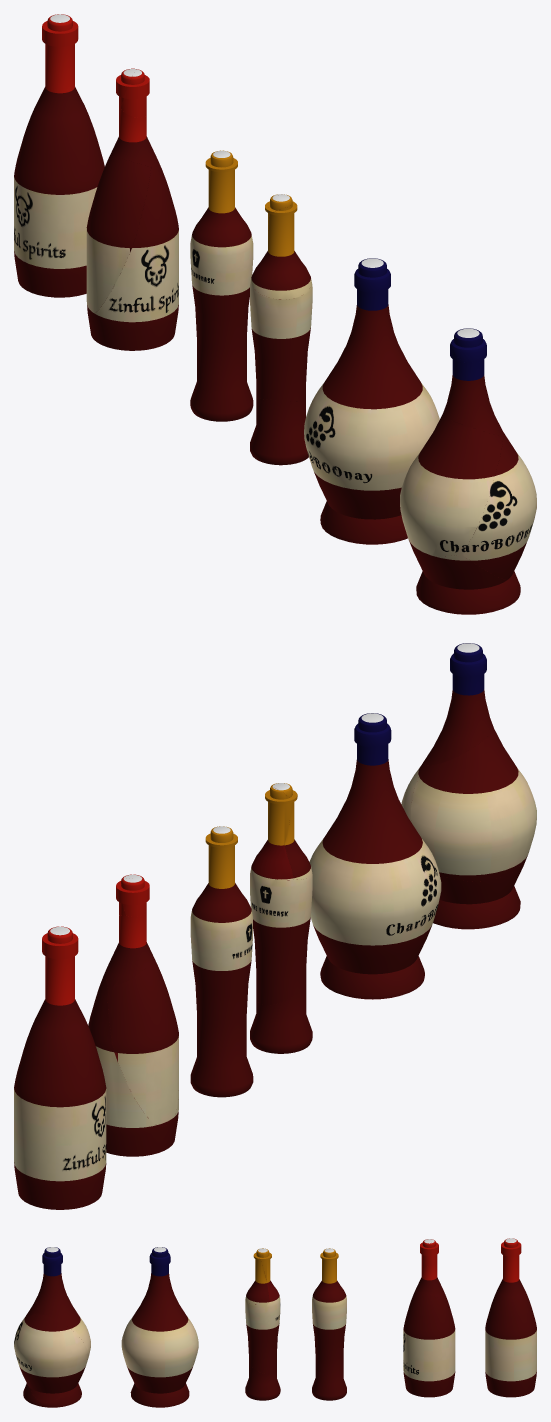
File: Wine_Bottles.fbx
3 renders of one model, top to bottom at view 1: azimuth 30°, elevation 25°; view 2: azimuth 150°, elevation 25°; view 3: azimuth 270°, elevation 25°, orthographic. The views are drawn at different scales.
Parts seen in each view (by area): view 1: Chardboonay_Bottle, Zinful_Bottle, Exorcask_Bottle, Chardboonay_Broken_3, Zinful_Broken_1, Zinful_Broken_5, Exorcask_Broken_1, Chardboonay_Broken_5, Chardboonay_Broken_4, Exorcask_Broken_4, Exorcask_Broken_3, Chardboonay_Broken_1 (+3 smaller); view 2: Chardboonay_Bottle, Zinful_Bottle, Chardboonay_Broken_3, Exorcask_Bottle, Zinful_Broken_5, Exorcask_Broken_1, Zinful_Broken_1, Chardboonay_Broken_1, Chardboonay_Broken_4, Exorcask_Broken_3, Exorcask_Broken_5, Zinful_Broken_2 (+2 smaller); view 3: Chardboonay_Bottle, Zinful_Bottle, Zinful_Broken_1, Chardboonay_Broken_5, Exorcask_Bottle, Exorcask_Broken_1, Chardboonay_Broken_1, Exorcask_Broken_3, Chardboonay_Broken_4, Exorcask_Broken_4, Zinful_Broken_2, Chardboonay_Broken_3 (+3 smaller).
Part boxes in pixels (x1,y1,x2,y2): Chardboonay_Bottle: (304, 258, 439, 544); Zinful_Bottle: (14, 14, 104, 297); Exorcask_Bottle: (190, 150, 253, 421); Chardboonay_Broken_3: (400, 417, 503, 556); Zinful_Broken_1: (86, 155, 178, 350); Zinful_Broken_5: (86, 155, 150, 314); Exorcask_Broken_1: (250, 280, 312, 401); Chardboonay_Broken_5: (462, 434, 536, 583); Chardboonay_Broken_4: (411, 546, 520, 614); Exorcask_Broken_4: (251, 204, 311, 299); Exorcask_Broken_3: (250, 398, 308, 465); Chardboonay_Broken_1: (441, 339, 504, 436); Chardboonay_Bottle: (309, 713, 441, 999); Zinful_Bottle: (14, 926, 106, 1209); Chardboonay_Broken_3: (411, 728, 536, 881); Exorcask_Bottle: (190, 826, 253, 1097); Zinful_Broken_5: (107, 957, 178, 1126); Exorcask_Broken_1: (250, 865, 312, 1005); Zinful_Broken_1: (88, 967, 178, 1156); Chardboonay_Broken_1: (424, 658, 493, 765); Chardboonay_Broken_4: (433, 855, 527, 929); Exorcask_Broken_3: (250, 978, 312, 1053); Exorcask_Broken_5: (251, 786, 294, 879); Zinful_Broken_2: (106, 914, 153, 987); Chardboonay_Bottle: (121, 1247, 198, 1407); Zinful_Bottle: (485, 1238, 536, 1397); Zinful_Broken_1: (403, 1292, 455, 1397); Chardboonay_Broken_5: (14, 1313, 87, 1402); Exorcask_Bottle: (312, 1248, 346, 1400); Exorcask_Broken_1: (245, 1295, 280, 1374); Chardboonay_Broken_1: (36, 1253, 72, 1323); Exorcask_Broken_3: (245, 1362, 280, 1400); Chardboonay_Broken_4: (23, 1371, 83, 1407); Exorcask_Broken_4: (245, 1253, 269, 1303); Zinful_Broken_2: (416, 1259, 445, 1301); Chardboonay_Broken_3: (20, 1297, 90, 1361).
Bounding box in the file's own units: 579 × 1286 × 3923.
Materials: 9 (3 with a texture image).
